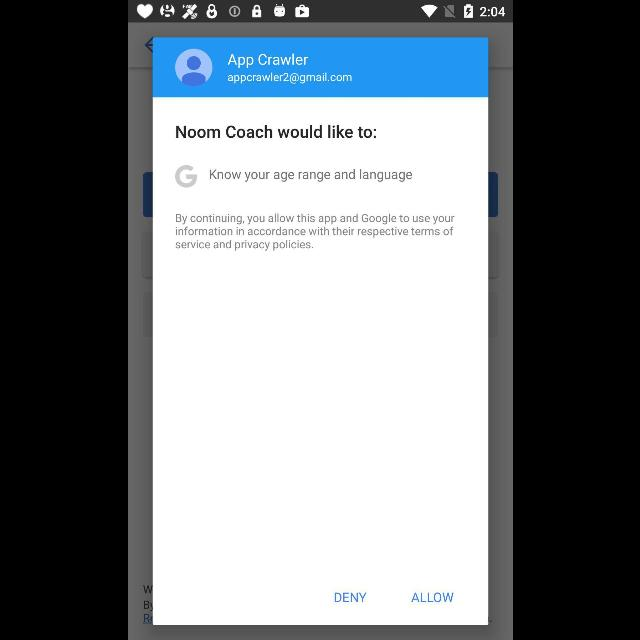icon: (174, 49, 212, 87)
panel: (152, 38, 488, 624)
text: (174, 213, 453, 250), (208, 169, 412, 183), (175, 125, 375, 139), (227, 72, 351, 84), (226, 53, 308, 69), (174, 166, 196, 188), (411, 592, 454, 602), (334, 592, 366, 602)
uppertaskbar: (128, 1, 512, 23)
